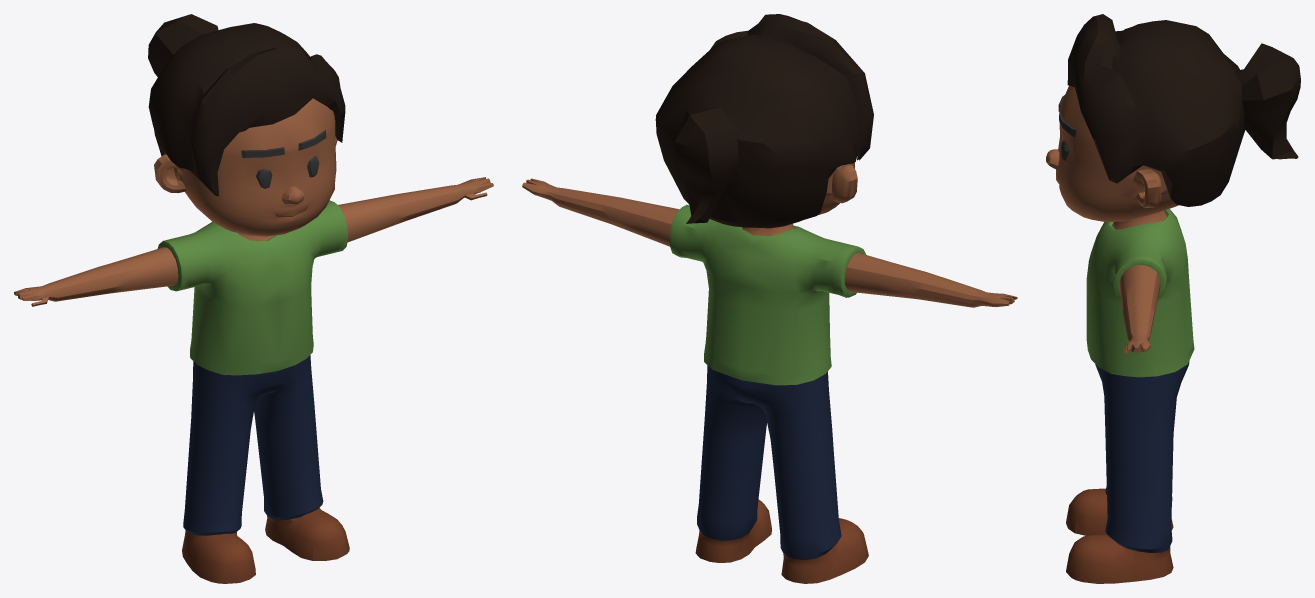
File: nig_destiny.fbx
The picture shows the model from 3 angles, left to right: view 1: azimuth 30°, elevation 25°; view 2: azimuth 150°, elevation 25°; view 3: azimuth 270°, elevation 25°; orthographic projection. The views are drawn at different scales.
Parts seen in each view (by area): view 1: body.005; view 2: body.005; view 3: body.005.
Boxes of the visible parts, box(x1,y1,x2,y2) form: body.005: box(14, 14, 493, 583); body.005: box(522, 14, 1017, 583); body.005: box(1046, 14, 1300, 583).
Size of the model in its own units: 113 by 117 by 51.49.
